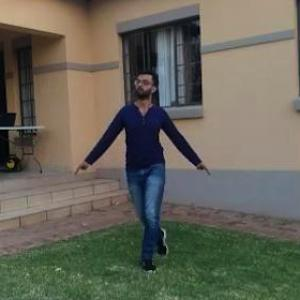land: (94, 86, 188, 235)
